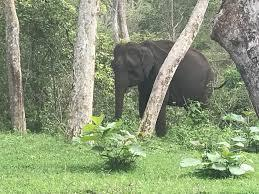elephant: (155, 48, 213, 136), (111, 40, 173, 118)
